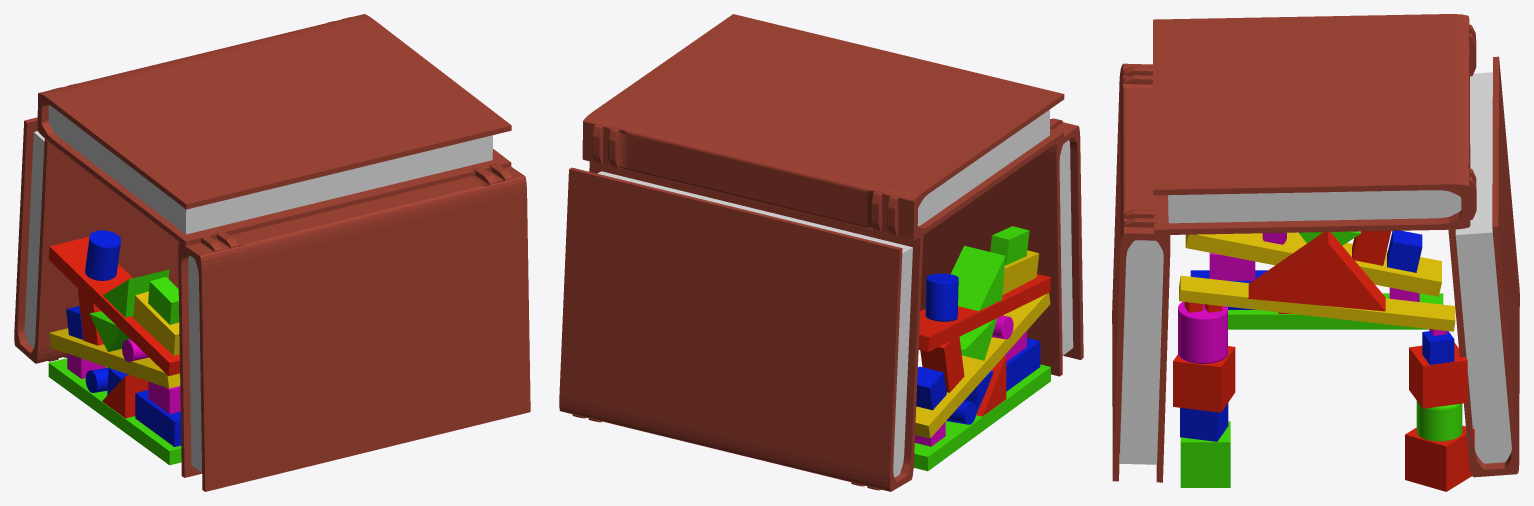
File: SpawnPoint.fbx
3 renders of one model, left to right at view 1: azimuth 30°, elevation 25°; view 2: azimuth 150°, elevation 25°; view 3: azimuth 270°, elevation 25°, orthographic. The views are drawn at different scales.
Parts seen in each view (by area): view 1: Cube.029, Cube.011, Cube.013, Cube.012, Cube.020, Cube.014, Cube.017, Cube.028, Cube.030, Cylinder.004, Cube.018, Cube.025 (+6 smaller); view 2: Cube.013, Cube.011, Cube.029, Cube.028, Cube.017, Cube.012, Cube.014, Cube.020, Cube.027, Cube.030, Cylinder.004, Cube.023 (+6 smaller); view 3: Cube.011, Cube.028, Cube.029, Cube.013, Cube.030, Cube.012, Cube.008, Cube.007, Cube.017, Cube.003, Cube.002, Cube.004 (+9 smaller).
Boxes of the visible parts, x1,y1,x2,y2 form: Cube.029: (178, 163, 530, 491); Cube.011: (37, 14, 511, 245); Cube.013: (14, 117, 179, 363); Cube.012: (48, 105, 492, 234); Cube.020: (48, 236, 179, 375); Cube.014: (48, 358, 181, 465); Cube.017: (49, 328, 180, 388); Cube.028: (24, 131, 44, 347); Cube.030: (188, 255, 201, 472); Cylinder.004: (85, 230, 120, 280); Cube.018: (135, 390, 181, 446); Cube.025: (133, 291, 179, 355); Cube.013: (559, 161, 923, 491); Cube.011: (582, 14, 1064, 239); Cube.029: (920, 118, 1083, 376); Cube.028: (597, 171, 912, 477); Cube.017: (915, 293, 1050, 438); Cube.012: (917, 109, 1049, 226); Cube.014: (913, 364, 1050, 471); Cube.020: (918, 274, 1050, 351); Cube.027: (951, 245, 1005, 310); Cube.030: (1059, 140, 1073, 355); Cylinder.004: (925, 273, 958, 321); Cube.023: (920, 337, 964, 392); Cube.011: (1153, 14, 1476, 235); Cube.028: (1455, 72, 1511, 463); Cube.029: (1112, 63, 1170, 482); Cube.013: (1448, 56, 1519, 477); Cube.030: (1120, 240, 1163, 464); Cube.012: (1168, 190, 1461, 223); Cube.008: (1248, 232, 1385, 311); Cube.007: (1179, 275, 1455, 331); Cube.017: (1185, 232, 1441, 296); Cube.003: (1405, 425, 1474, 491); Cube.002: (1173, 346, 1235, 412); Cube.004: (1409, 342, 1467, 408).
Bounding box in the file's own units: 1722 × 1316 × 1626.
